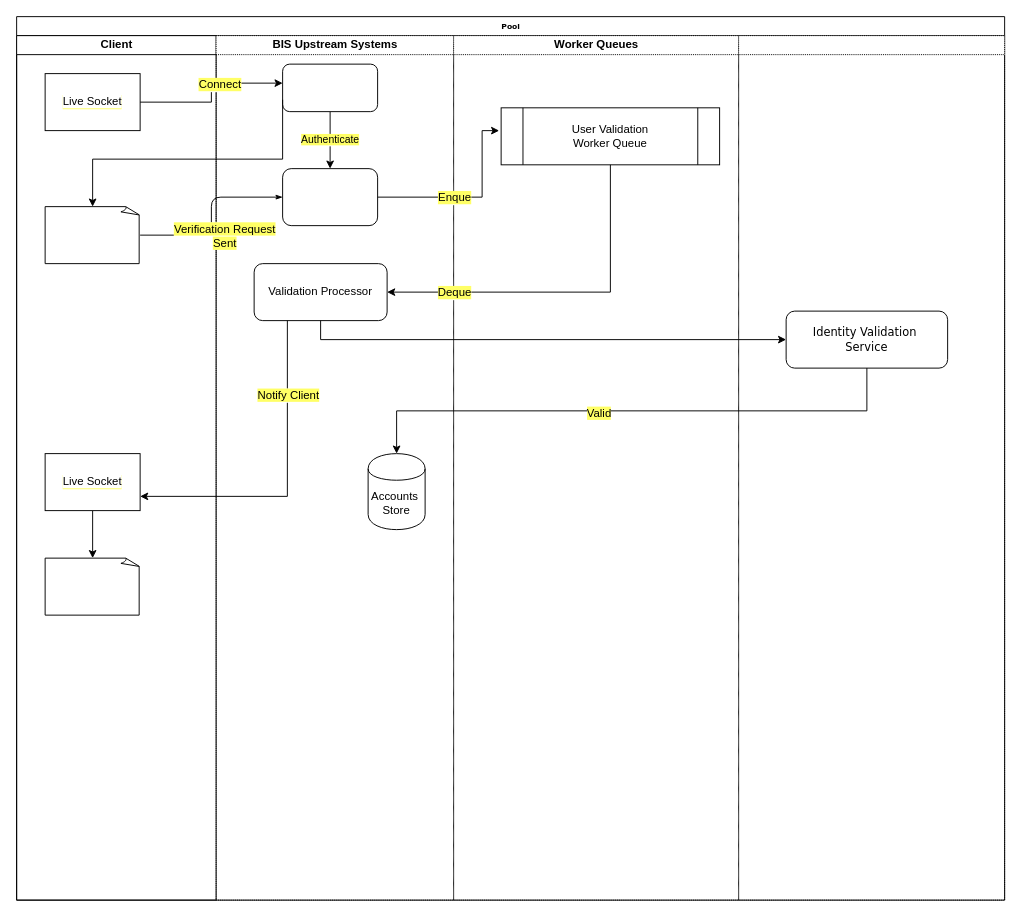
This 1021x917 diagram has some shape labels left out. Here are the shapes that lost their labels. From the top down, the box of each, then its label:
(282, 63, 378, 112): Notification Server
(282, 168, 378, 226): Auth Server
(44, 206, 140, 264): ID Verification Form
(738, 35, 1005, 900): Vendor Systems
(44, 557, 140, 615): User Dashboard
